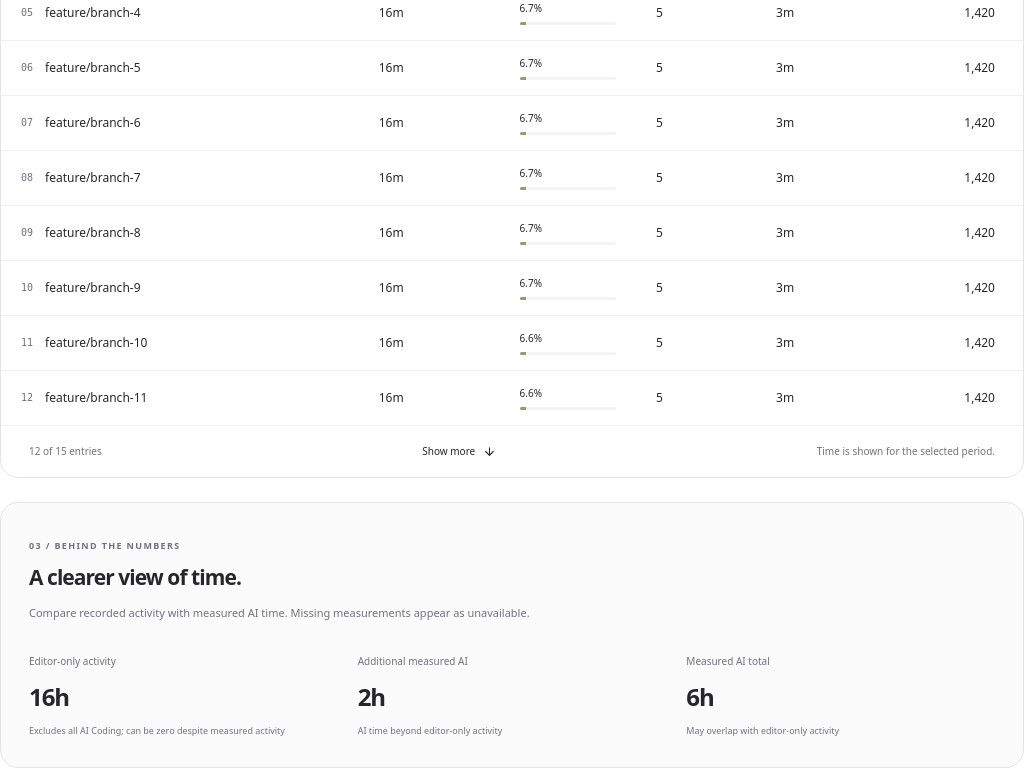
Test case: Insights › loads more entries and keeps long branch names selectable
(page scrolled)
Click the button "Show more" at point(459, 452), box [422,444,496,459]
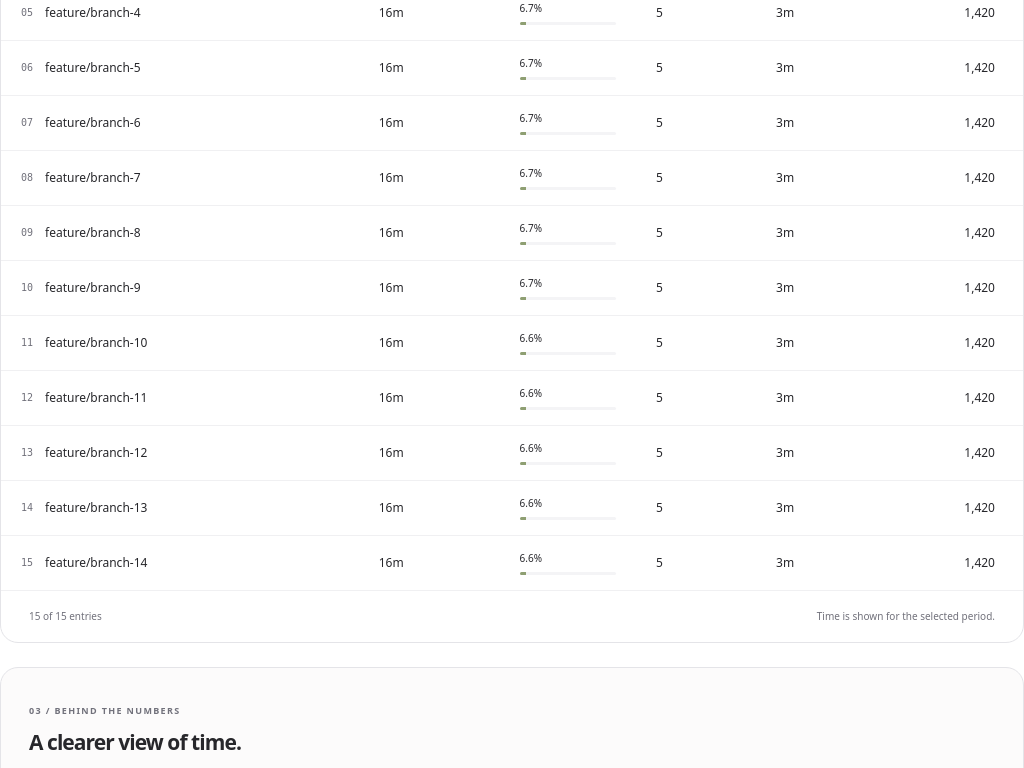
Expected: the button "Show more" is gone
